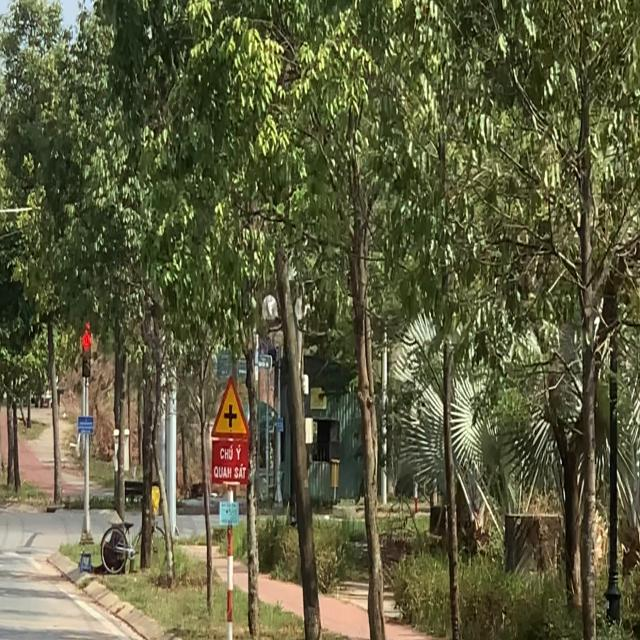Duong giao nhau: (209, 372, 252, 443)
